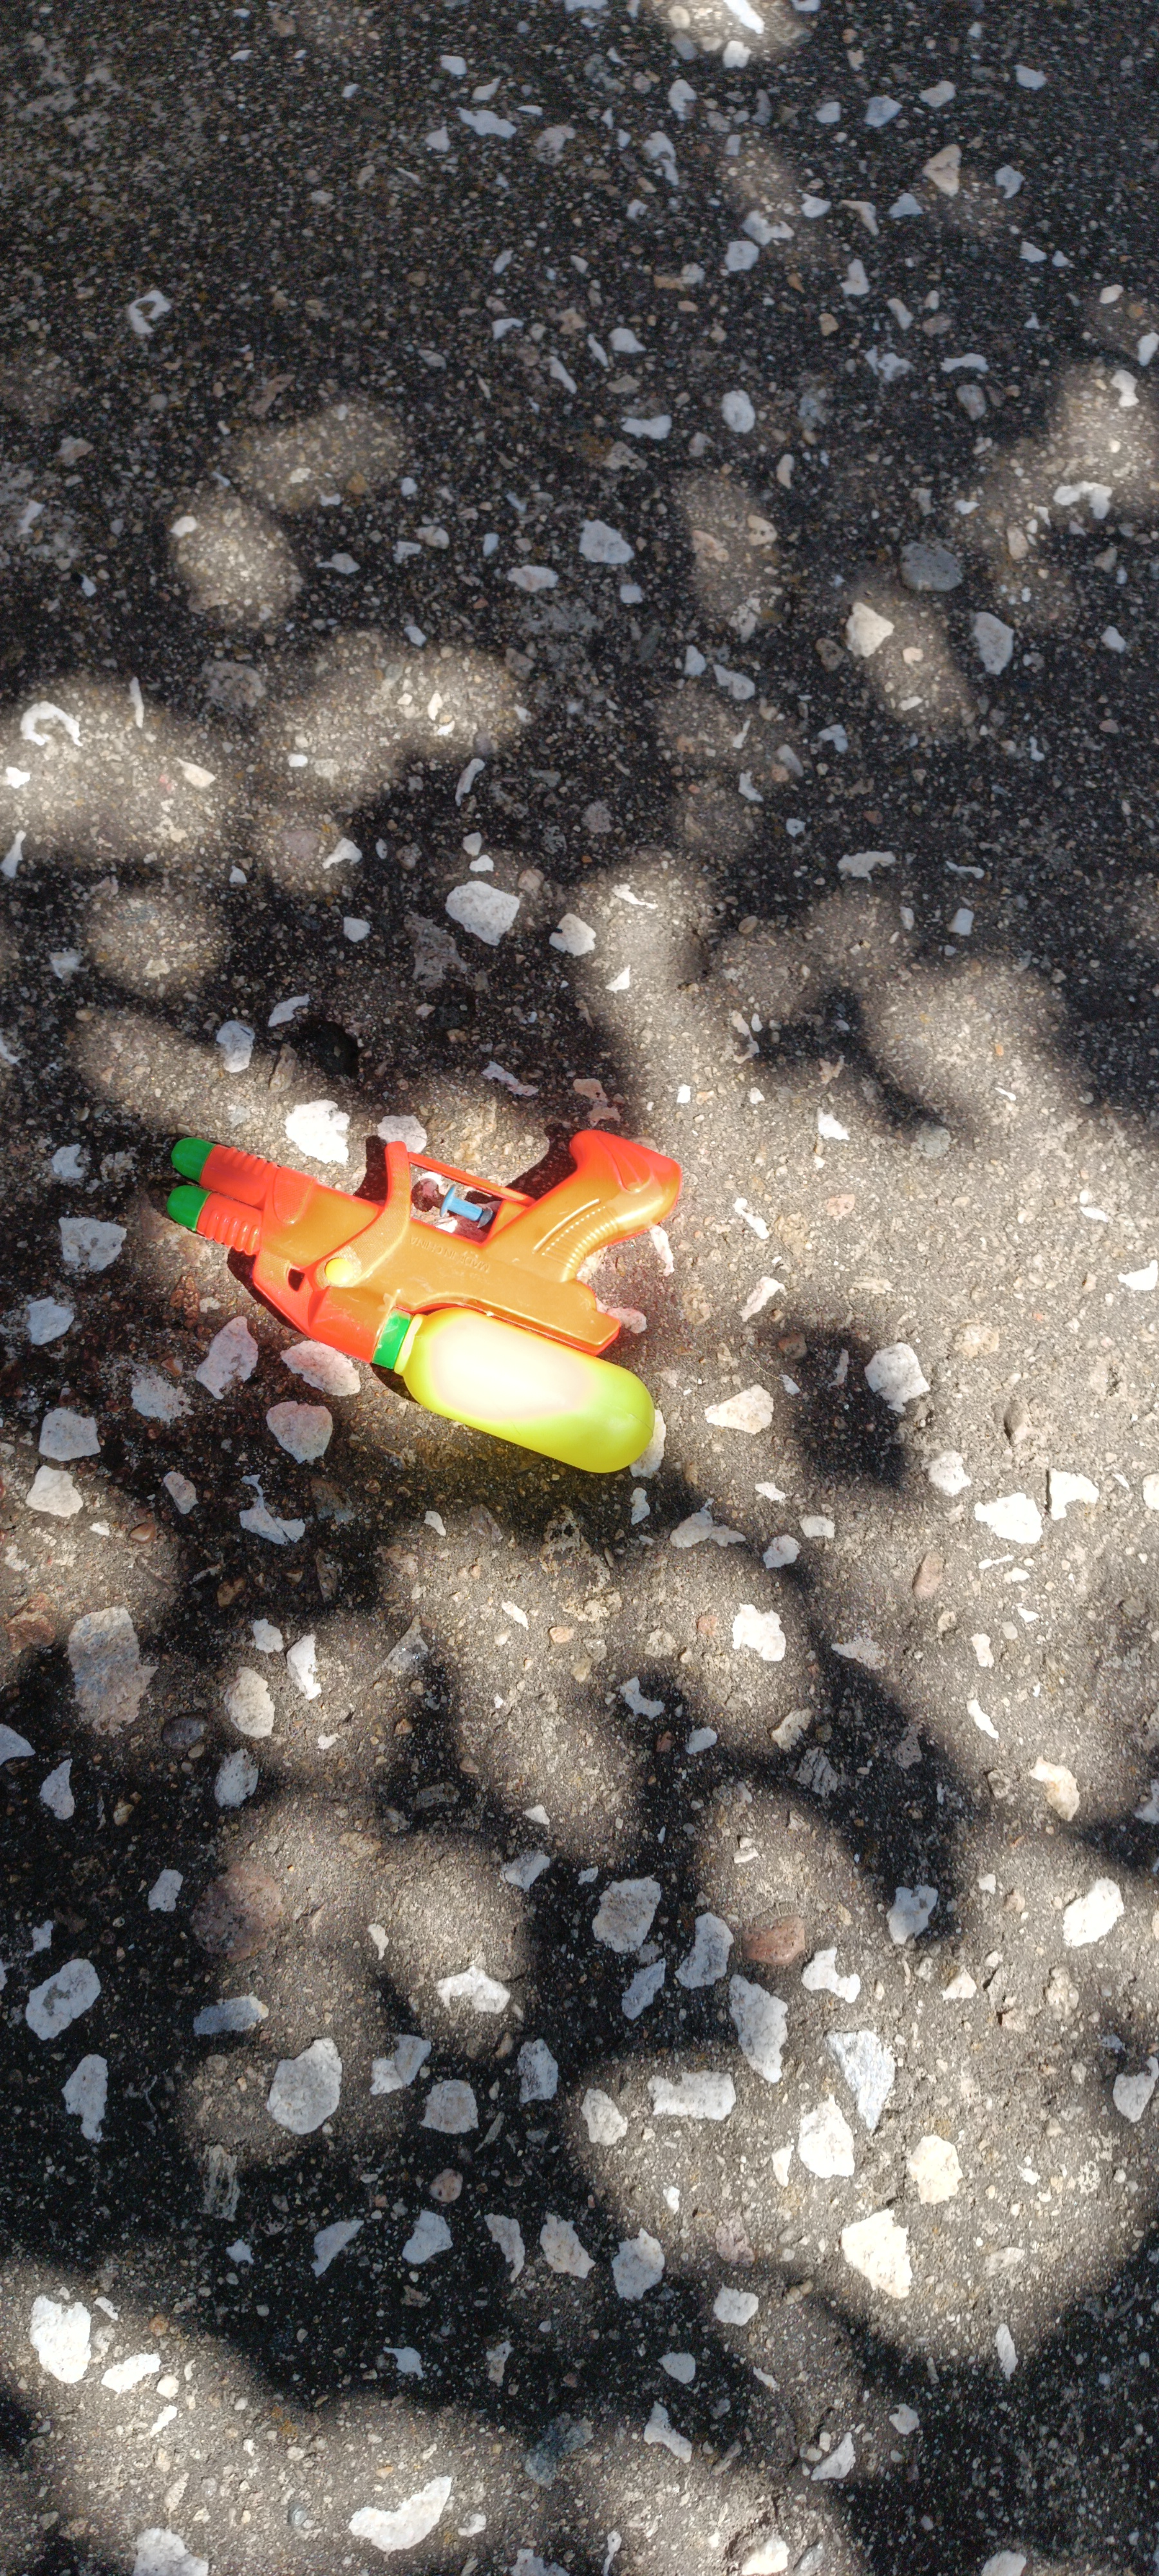Water Gun: (164, 1127, 685, 1474)
